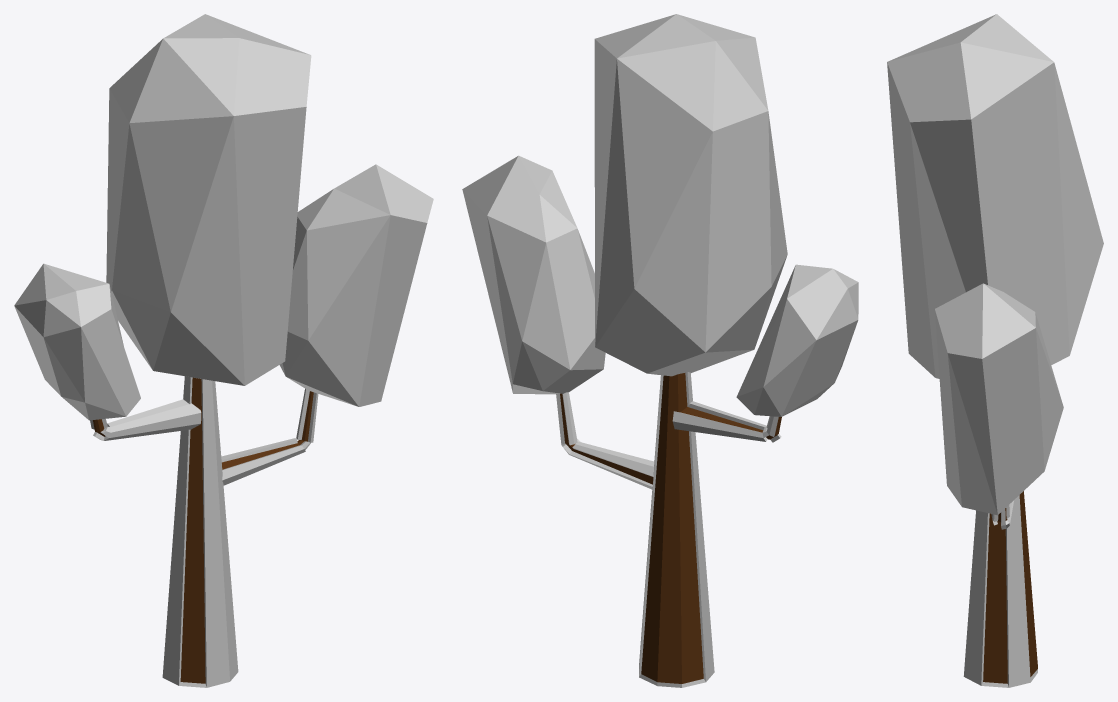
Rendered from Tree_10.fbx.
3 views of the same model, side by side, from view 1: azimuth 30°, elevation 25°; view 2: azimuth 150°, elevation 25°; view 3: azimuth 270°, elevation 25° (orthographic).
Parts seen in each view (by area): view 1: Tree_10; view 2: Tree_10; view 3: Tree_10.
Boxes of the visible parts, box(x1,y1,x2,y2) form: Tree_10: box(14, 14, 433, 687); Tree_10: box(462, 14, 858, 687); Tree_10: box(887, 14, 1103, 687).
Bounding box in the file's own units: 432 × 673 × 207.
